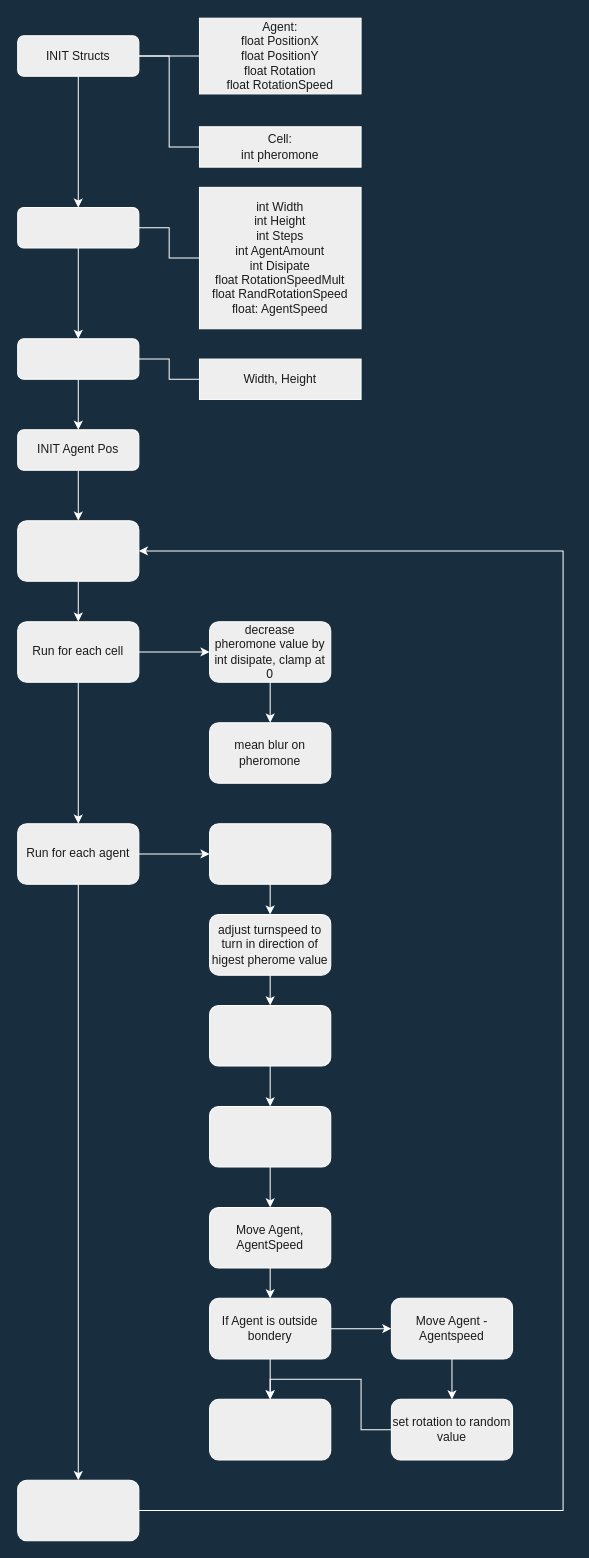
This 589x1558 diagram has some shape labels left out. Here are the shapes that lost their labels. From the top down, the box of each, then its label:
(17, 207, 139, 248): Read Settings file
(17, 338, 139, 379): INIT 2D ARRAY with Struct Cell
(17, 520, 139, 581): for i in rage steps
(209, 823, 331, 884): Sampel cells infront of agent
(209, 1004, 331, 1066): increase rotationspeed with random amount * RandRoitationSpeed
(209, 1105, 331, 1167): increase rotation by rotation speed
(209, 1398, 331, 1460): uppdate cell pheromone under agent
(17, 1479, 139, 1541): save 2d array as bw png
